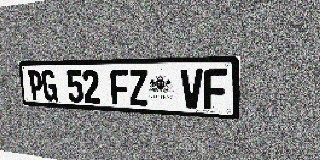2: (82, 70, 100, 104)
5: (66, 70, 84, 103)
F: (204, 69, 227, 110), (110, 69, 129, 105)
G: (41, 70, 58, 101)
P: (28, 70, 44, 101)
V: (181, 69, 203, 109)
Z: (128, 69, 148, 106)
